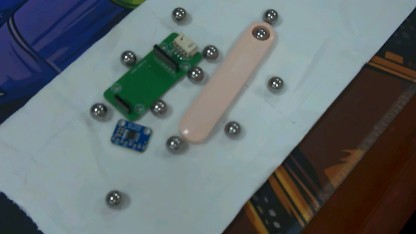ironball: (157, 133, 187, 155), (197, 41, 220, 61), (221, 119, 242, 139), (117, 46, 136, 68), (167, 4, 186, 25), (90, 102, 108, 123), (266, 74, 285, 93), (251, 23, 270, 42), (150, 96, 167, 117), (261, 5, 278, 25), (185, 65, 202, 83), (106, 189, 122, 205)
